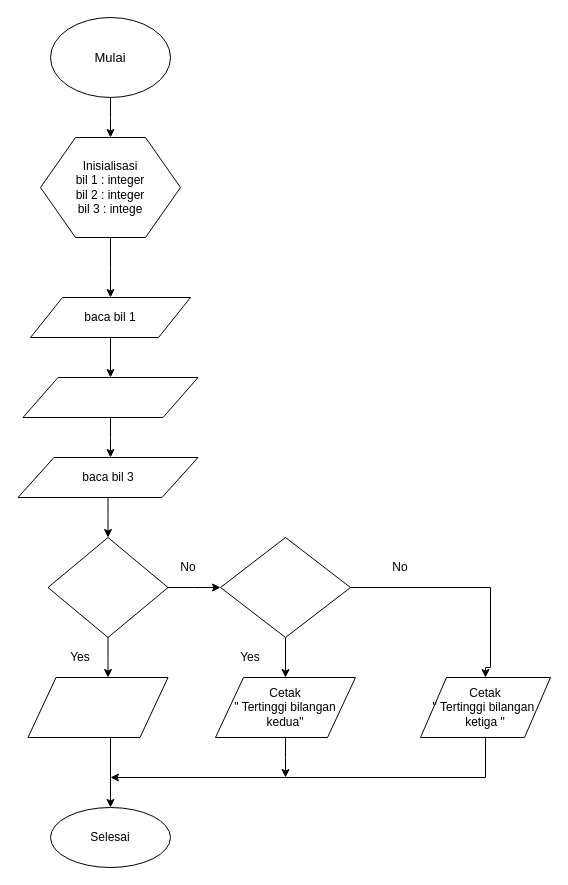
Image size: 568x885. Some labels were removed from this diagram. Each missing label, with the centre of its shape:
baca bil 2: point 110,397
Cetak " Tertinggi bilangan pertama": point 97,707
jika bil 1 > bil 2 dan bil 1 > bil 3: point 107,587
jika bil 2 > bil 3 dan bil 2 > bil 1: point 285,587
